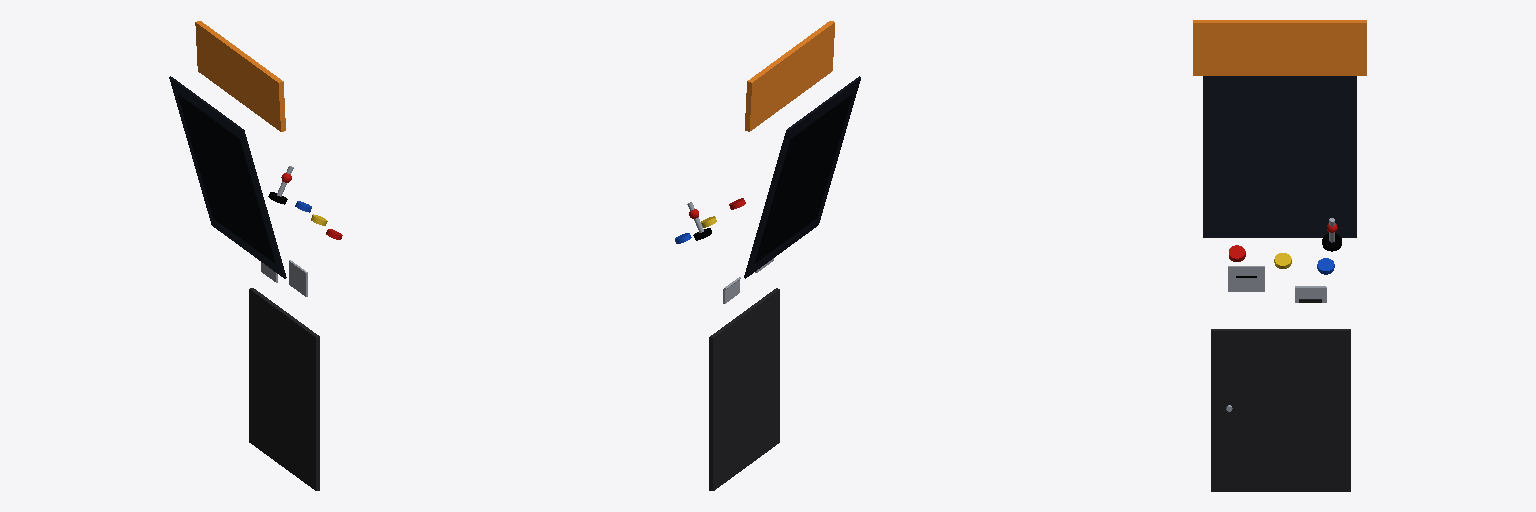
robot.urdf — upright_arcade_cabinet:
<robot name="upright_arcade_cabinet">
  <material name="body_finish">
    <color rgba="0.08 0.08 0.09 1" />
    </material>
  <material name="trim_finish">
    <color rgba="0.15 0.15 0.16 1" />
    </material>
  <material name="door_finish">
    <color rgba="0.18 0.18 0.19 1" />
    </material>
  <material name="metal_finish">
    <color rgba="0.63 0.65 0.69 1" />
    </material>
  <material name="screen_finish">
    <color rgba="0.04 0.05 0.06 1" />
    </material>
  <material name="glass_finish">
    <color rgba="0.1 0.12 0.15 0.94" />
    </material>
  <material name="marquee_finish">
    <color rgba="0.92 0.54 0.18 0.96" />
    </material>
  <material name="red_finish">
    <color rgba="0.76 0.12 0.1 1" />
    </material>
  <material name="yellow_finish">
    <color rgba="0.86 0.72 0.16 1" />
    </material>
  <material name="blue_finish">
    <color rgba="0.12 0.34 0.78 1" />
    </material>
  <material name="black_finish">
    <color rgba="0.03 0.03 0.03 1" />
    </material>
  <link name="body">
    <visual name="body_shell">
      <geometry>
        <mesh filename="assets/meshes/arcade_body.obj" />
        </geometry>
      <material name="body_finish">
        <color rgba="0.08 0.08 0.09 1" />
        </material>
      </visual>
    <visual name="coin_trim">
      <origin xyz="0.236 -0.11 0.885" rpy="0 0 0" />
      <geometry>
        <box size="0.008 0.12 0.09" />
        </geometry>
      <material name="metal_finish">
        <color rgba="0.63 0.65 0.69 1" />
        </material>
      </visual>
    <visual name="coin_slot">
      <origin xyz="0.239 -0.11 0.895" rpy="0 0 0" />
      <geometry>
        <box size="0.003 0.07 0.007" />
        </geometry>
      <material name="black_finish">
        <color rgba="0.03 0.03 0.03 1" />
        </material>
      </visual>
    <visual name="screen_glass">
      <origin xyz="0.0219254 0 1.27054" rpy="0 -0.274017 0" />
      <geometry>
        <box size="0.008 0.5 0.62" />
        </geometry>
      <material name="glass_finish">
        <color rgba="0.1 0.12 0.15 0.94" />
        </material>
      </visual>
    <visual name="screen_image">
      <origin xyz="0.0161492 0 1.26892" rpy="0 -0.274017 0" />
      <geometry>
        <box size="0.004 0.42 0.52" />
        </geometry>
      <material name="screen_finish">
        <color rgba="0.04 0.05 0.06 1" />
        </material>
      </visual>
    <visual name="marquee_panel">
      <origin xyz="0.072 0 1.64" rpy="0 -0.0523599 0" />
      <geometry>
        <box size="0.02 0.568 0.188" />
        </geometry>
      <material name="marquee_finish">
        <color rgba="0.92 0.54 0.18 0.96" />
        </material>
      </visual>
    <visual name="marquee_lens">
      <origin xyz="0.069 0 1.64" rpy="0 -0.0523599 0" />
      <geometry>
        <box size="0.006 0.5 0.11" />
        </geometry>
      <material name="glass_finish">
        <color rgba="0.1 0.12 0.15 0.94" />
        </material>
      </visual>
    <collision name="body_shell">
      <geometry>
        <mesh filename="assets/meshes/arcade_body.obj" />
        </geometry>
      </collision>
    <collision name="coin_trim">
      <origin xyz="0.236 -0.11 0.885" rpy="0 0 0" />
      <geometry>
        <box size="0.008 0.12 0.09" />
        </geometry>
      </collision>
    <collision name="coin_slot">
      <origin xyz="0.239 -0.11 0.895" rpy="0 0 0" />
      <geometry>
        <box size="0.003 0.07 0.007" />
        </geometry>
      </collision>
    <collision name="screen_glass">
      <origin xyz="0.0219254 0 1.27054" rpy="0 -0.274017 0" />
      <geometry>
        <box size="0.008 0.5 0.62" />
        </geometry>
      </collision>
    <collision name="screen_image">
      <origin xyz="0.0161492 0 1.26892" rpy="0 -0.274017 0" />
      <geometry>
        <box size="0.004 0.42 0.52" />
        </geometry>
      </collision>
    <collision name="marquee_panel">
      <origin xyz="0.072 0 1.64" rpy="0 -0.0523599 0" />
      <geometry>
        <box size="0.02 0.568 0.188" />
        </geometry>
      </collision>
    <collision name="marquee_lens">
      <origin xyz="0.069 0 1.64" rpy="0 -0.0523599 0" />
      <geometry>
        <box size="0.006 0.5 0.11" />
        </geometry>
      </collision>
    </link>
  <link name="control_panel">
    <visual name="deck_shell">
      <geometry>
        <mesh filename="assets/meshes/control_panel.obj" />
        </geometry>
      <material name="trim_finish">
        <color rgba="0.15 0.15 0.16 1" />
        </material>
      </visual>
    <visual name="joystick_base">
      <origin xyz="0.0767889 0.17 0.116078" rpy="0 0.463648 0" />
      <geometry>
        <cylinder radius="0.032" length="0.018" />
        </geometry>
      <material name="black_finish">
        <color rgba="0.03 0.03 0.03 1" />
        </material>
      </visual>
    <visual name="joystick_stem">
      <origin xyz="0.102727 0.17 0.167954" rpy="0 0.463648 0" />
      <geometry>
        <cylinder radius="0.009" length="0.12" />
        </geometry>
      <material name="metal_finish">
        <color rgba="0.63 0.65 0.69 1" />
        </material>
      </visual>
    <visual name="joystick_ball">
      <origin xyz="0.111224 0.17 0.184949" rpy="0 0 0" />
      <geometry>
        <sphere radius="0.018" />
        </geometry>
      <material name="red_finish">
        <color rgba="0.76 0.12 0.1 1" />
        </material>
      </visual>
    <visual name="button_red">
      <origin xyz="0.119789 -0.14 0.0945777" rpy="0 0.463648 0" />
      <geometry>
        <cylinder radius="0.028" length="0.018" />
        </geometry>
      <material name="red_finish">
        <color rgba="0.76 0.12 0.1 1" />
        </material>
      </visual>
    <visual name="button_yellow">
      <origin xyz="0.146789 0.01 0.0810777" rpy="0 0.463648 0" />
      <geometry>
        <cylinder radius="0.028" length="0.018" />
        </geometry>
      <material name="yellow_finish">
        <color rgba="0.86 0.72 0.16 1" />
        </material>
      </visual>
    <visual name="button_blue">
      <origin xyz="0.166789 0.15 0.0710777" rpy="0 0.463648 0" />
      <geometry>
        <cylinder radius="0.028" length="0.018" />
        </geometry>
      <material name="blue_finish">
        <color rgba="0.12 0.34 0.78 1" />
        </material>
      </visual>
    <collision name="deck_shell">
      <geometry>
        <mesh filename="assets/meshes/control_panel.obj" />
        </geometry>
      </collision>
    <collision name="joystick_base">
      <origin xyz="0.0767889 0.17 0.116078" rpy="0 0.463648 0" />
      <geometry>
        <cylinder radius="0.032" length="0.018" />
        </geometry>
      </collision>
    <collision name="joystick_stem">
      <origin xyz="0.102727 0.17 0.167954" rpy="0 0.463648 0" />
      <geometry>
        <cylinder radius="0.009" length="0.12" />
        </geometry>
      </collision>
    <collision name="joystick_ball">
      <origin xyz="0.111224 0.17 0.184949" rpy="0 0 0" />
      <geometry>
        <sphere radius="0.018" />
        </geometry>
      </collision>
    <collision name="button_red">
      <origin xyz="0.119789 -0.14 0.0945777" rpy="0 0.463648 0" />
      <geometry>
        <cylinder radius="0.028" length="0.018" />
        </geometry>
      </collision>
    <collision name="button_yellow">
      <origin xyz="0.146789 0.01 0.0810777" rpy="0 0.463648 0" />
      <geometry>
        <cylinder radius="0.028" length="0.018" />
        </geometry>
      </collision>
    <collision name="button_blue">
      <origin xyz="0.166789 0.15 0.0710777" rpy="0 0.463648 0" />
      <geometry>
        <cylinder radius="0.028" length="0.018" />
        </geometry>
      </collision>
    </link>
  <link name="service_door">
    <visual name="door_panel">
      <origin xyz="0.008 -0.229 0.289" rpy="0 0 0" />
      <geometry>
        <box size="0.016 0.458 0.578" />
        </geometry>
      <material name="door_finish">
        <color rgba="0.18 0.18 0.19 1" />
        </material>
      </visual>
    <visual name="door_lock">
      <origin xyz="0.021 -0.398 0.30056" rpy="0 1.5708 0" />
      <geometry>
        <cylinder radius="0.01" length="0.01" />
        </geometry>
      <material name="metal_finish">
        <color rgba="0.63 0.65 0.69 1" />
        </material>
      </visual>
    <collision name="door_panel">
      <origin xyz="0.008 -0.229 0.289" rpy="0 0 0" />
      <geometry>
        <box size="0.016 0.458 0.578" />
        </geometry>
      </collision>
    <collision name="door_lock">
      <origin xyz="0.021 -0.398 0.30056" rpy="0 1.5708 0" />
      <geometry>
        <cylinder radius="0.01" length="0.01" />
        </geometry>
      </collision>
    </link>
  <link name="coin_flap">
    <visual name="flap_panel">
      <origin xyz="0.0035 0 -0.028" rpy="0 0 0" />
      <geometry>
        <box size="0.007 0.104 0.056" />
        </geometry>
      <material name="metal_finish">
        <color rgba="0.63 0.65 0.69 1" />
        </material>
      </visual>
    <visual name="flap_lip">
      <origin xyz="0.008 0 -0.048" rpy="0 0 0" />
      <geometry>
        <box size="0.006 0.07488 0.012" />
        </geometry>
      <material name="trim_finish">
        <color rgba="0.15 0.15 0.16 1" />
        </material>
      </visual>
    <visual name="flap_hinge">
      <origin xyz="0 0 0" rpy="1.5708 0 0" />
      <geometry>
        <cylinder radius="0.0035" length="0.10192" />
        </geometry>
      <material name="metal_finish">
        <color rgba="0.63 0.65 0.69 1" />
        </material>
      </visual>
    <collision name="flap_panel">
      <origin xyz="0.0035 0 -0.028" rpy="0 0 0" />
      <geometry>
        <box size="0.007 0.104 0.056" />
        </geometry>
      </collision>
    <collision name="flap_lip">
      <origin xyz="0.008 0 -0.048" rpy="0 0 0" />
      <geometry>
        <box size="0.006 0.07488 0.012" />
        </geometry>
      </collision>
    <collision name="flap_hinge">
      <origin xyz="0 0 0" rpy="1.5708 0 0" />
      <geometry>
        <cylinder radius="0.0035" length="0.10192" />
        </geometry>
      </collision>
    </link>
  <joint name="body_to_control_panel" type="fixed">
    <origin xyz="0.24 0 0.94" rpy="0 0 0" />
    <parent link="body" />
    <child link="control_panel" />
    </joint>
  <joint name="body_to_service_door" type="revolute">
    <origin xyz="0.24 0.233 0.13" rpy="0 0 0" />
    <parent link="body" />
    <child link="service_door" />
    <axis xyz="0 0 1" />
    <limit effort="20" velocity="1.5" lower="0" upper="1.45" />
    </joint>
  <joint name="body_to_coin_flap" type="revolute">
    <origin xyz="0.24 0.1 0.86" rpy="0 0 0" />
    <parent link="body" />
    <child link="coin_flap" />
    <axis xyz="0 -1 0" />
    <limit effort="2" velocity="4" lower="0" upper="0.9" />
    </joint>
  </robot>

--- Facts derived from the render (not from the file) ---
The picture shows the robot from 3 angles, left to right: view 1: azimuth 30°, elevation 25°; view 2: azimuth 150°, elevation 25°; view 3: azimuth 270°, elevation 25°; orthographic projection.
Robot: upright_arcade_cabinet — 4 links, 3 joints (2 revolute, 1 fixed); root link body; default pose: every joint at zero.
Visible links, largest first — view 1: body, service_door, control_panel; view 2: body, service_door, control_panel; view 3: body, service_door, control_panel, coin_flap.
Boxes of the visible links, x1=… form: body: x1=169, y1=21, x2=307, y2=296; service_door: x1=249, y1=288, x2=319, y2=490; control_panel: x1=268, y1=166, x2=342, y2=239; body: x1=744, y1=21, x2=860, y2=278; service_door: x1=709, y1=288, x2=779, y2=490; control_panel: x1=675, y1=198, x2=745, y2=243; body: x1=1193, y1=20, x2=1366, y2=291; service_door: x1=1211, y1=329, x2=1350, y2=491; control_panel: x1=1229, y1=218, x2=1341, y2=274; coin_flap: x1=1295, y1=286, x2=1326, y2=302.
Bounding box of the posed robot: 0.5017 × 0.568 × 1.6 m (x, y, z).
0 mesh visuals loaded from 2 distinct referenced files (none loaded); not drawn: 2 (reference not matched to a file when rendering).
